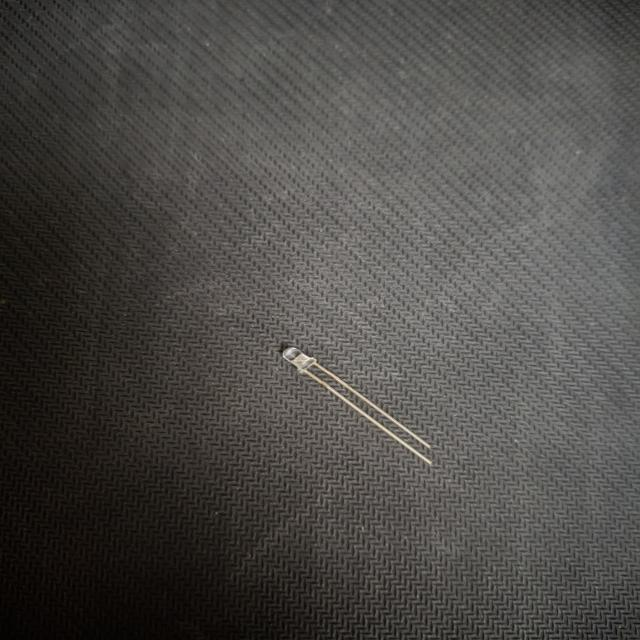led: (265, 324, 459, 477)
